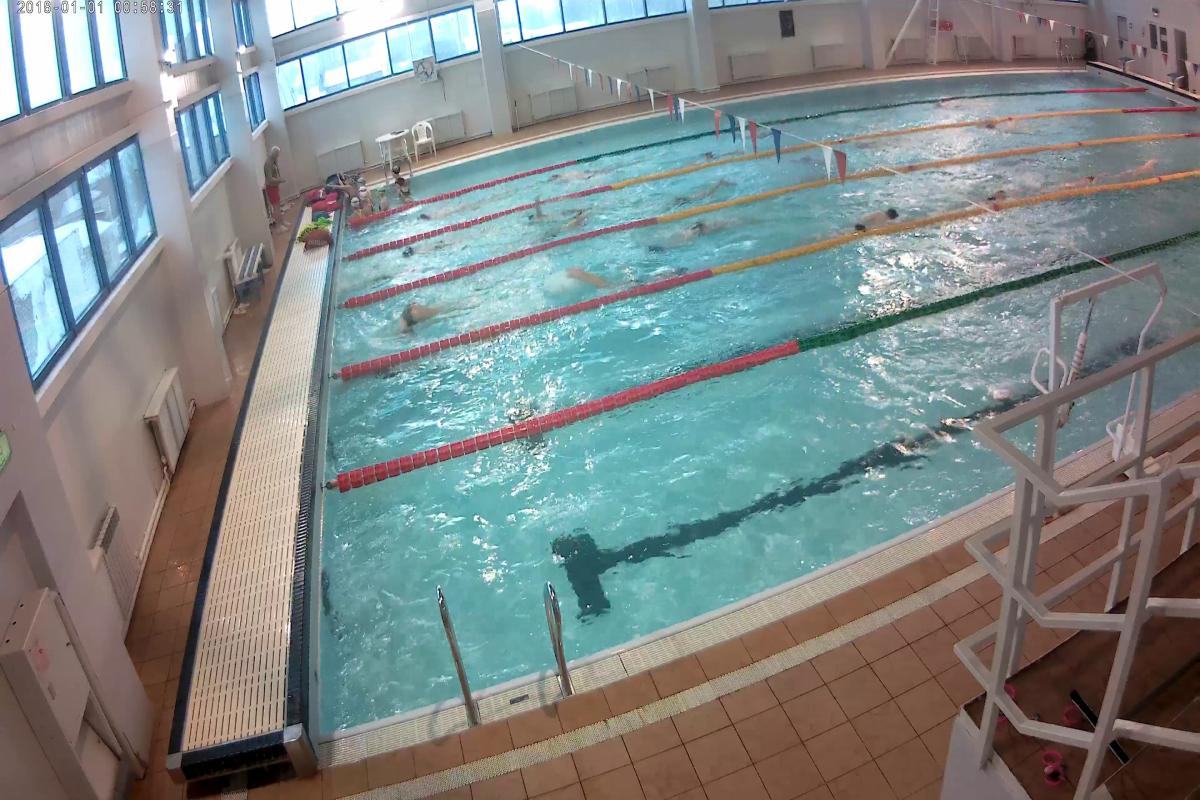swimmer: (660, 212, 734, 250), (396, 296, 476, 324), (840, 206, 910, 235), (562, 260, 634, 286), (1113, 152, 1165, 180)
